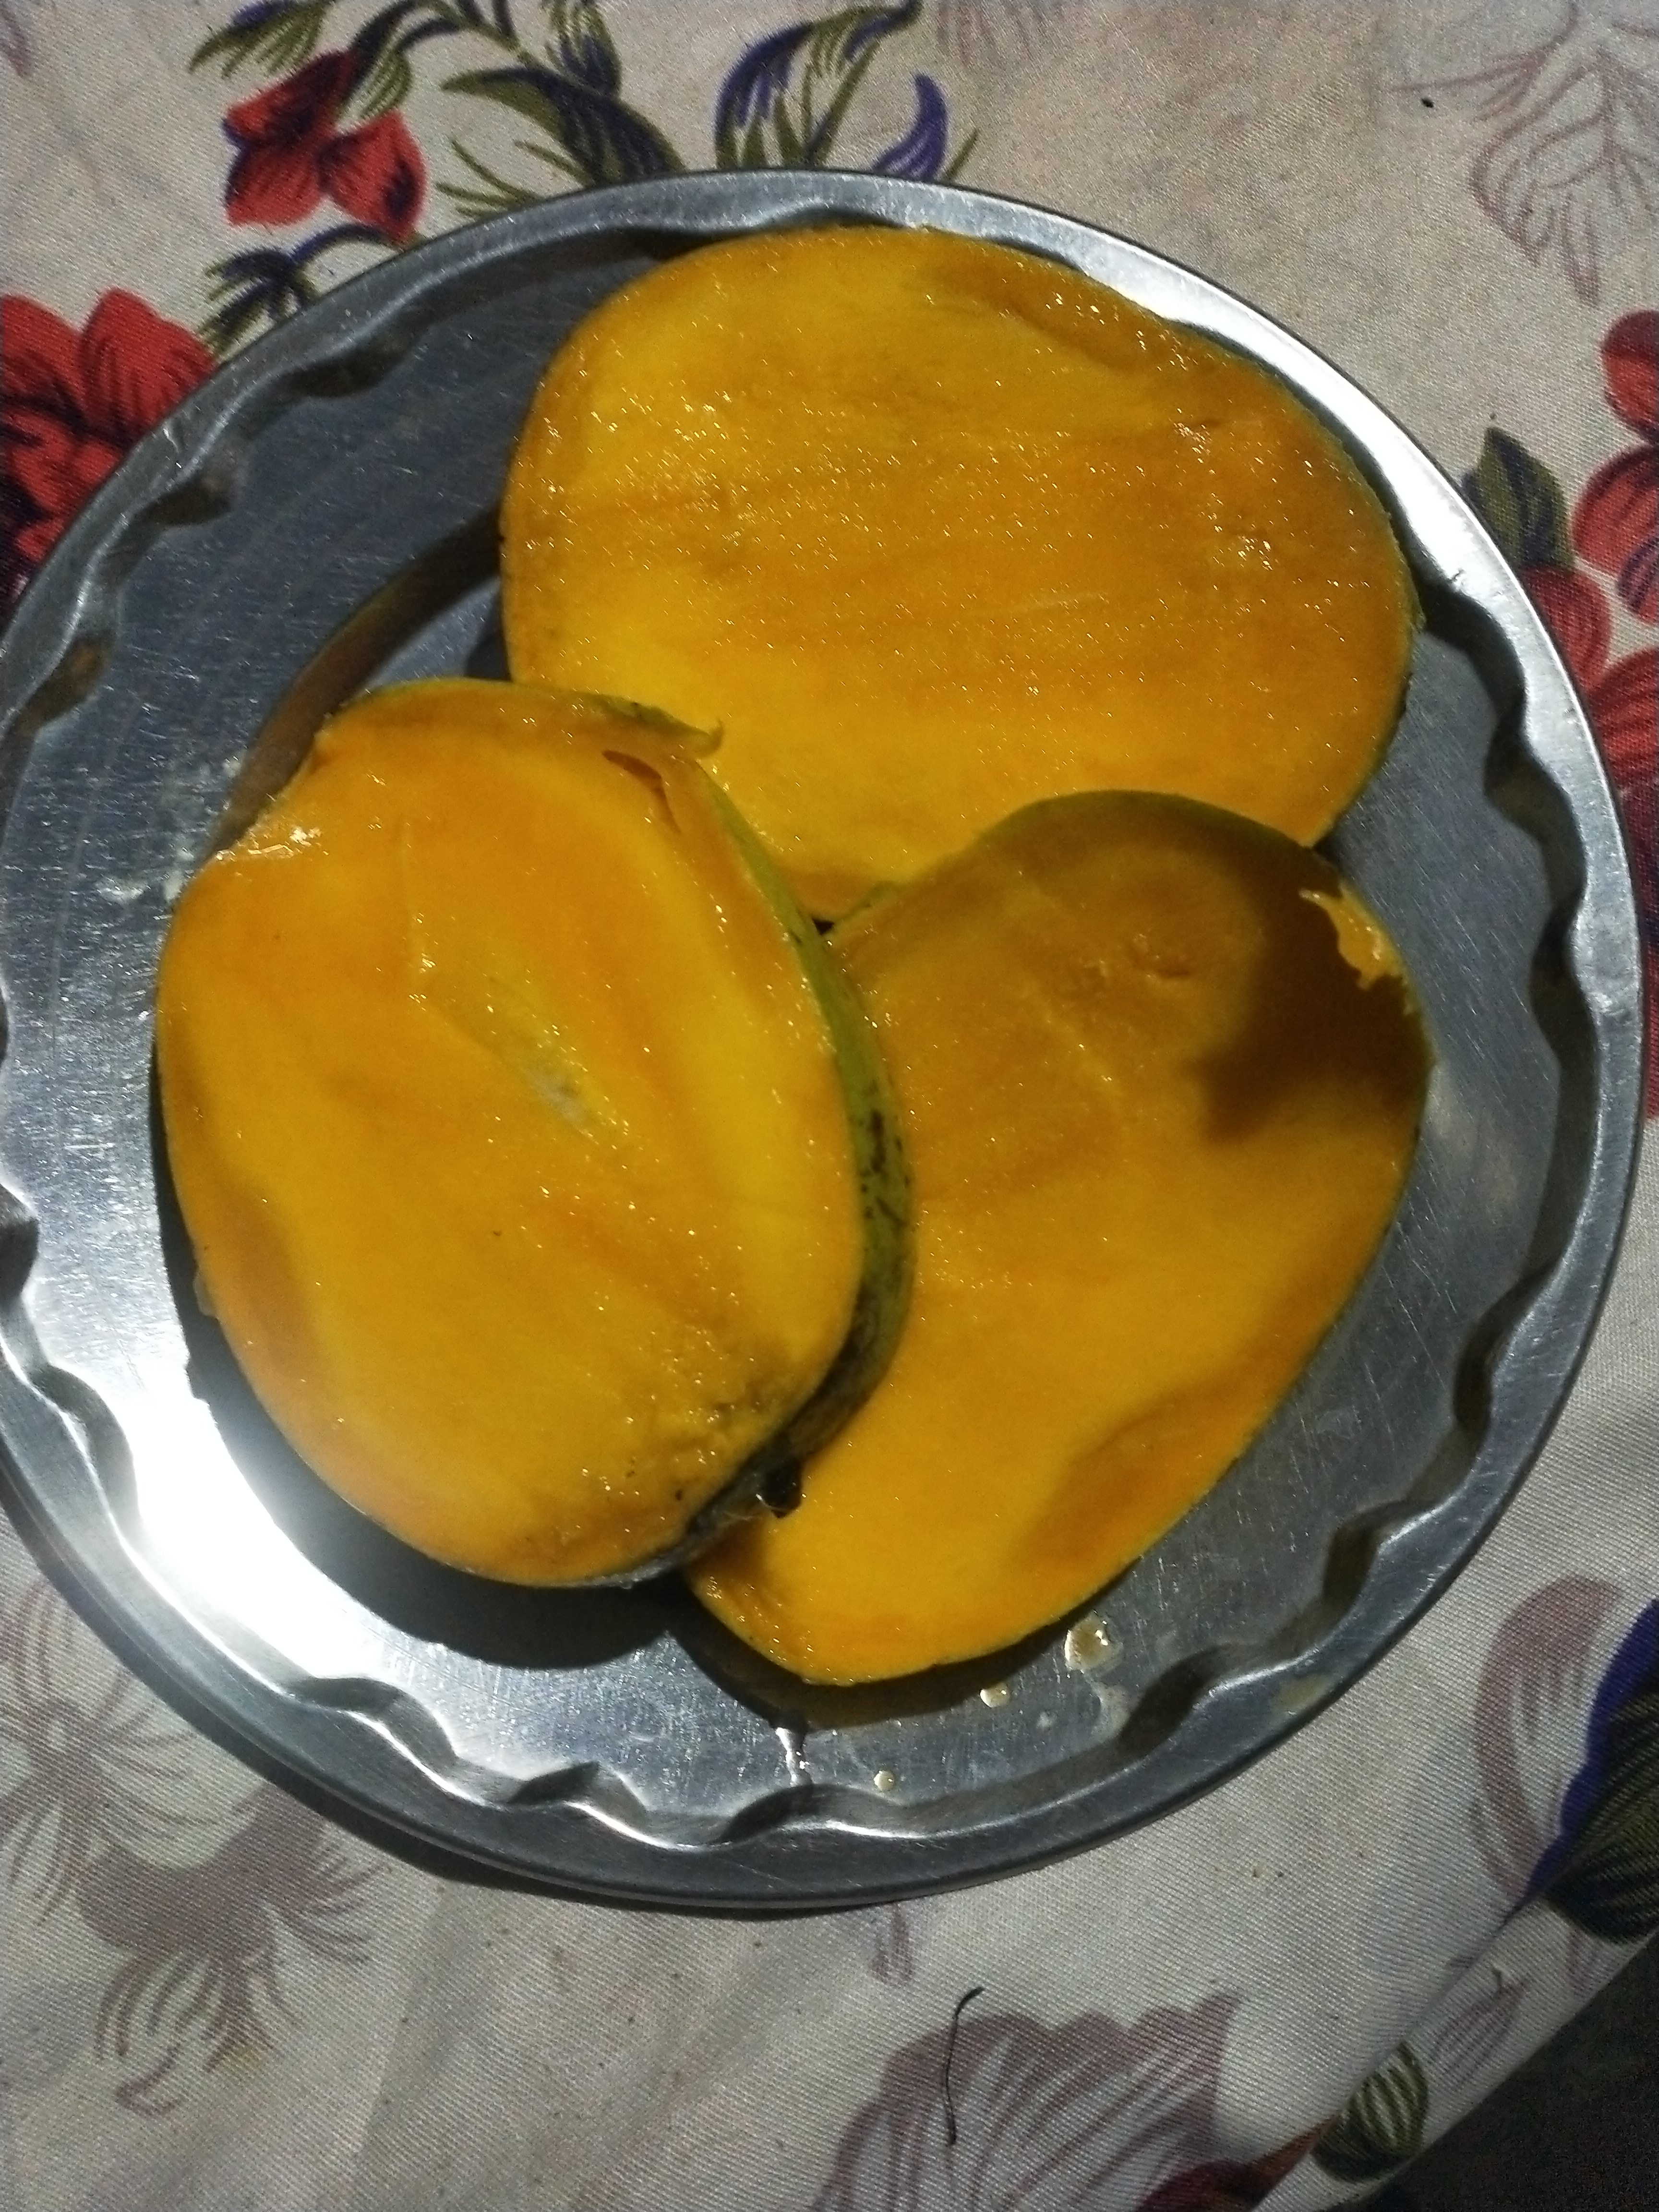food: (145, 202, 1445, 1717)
